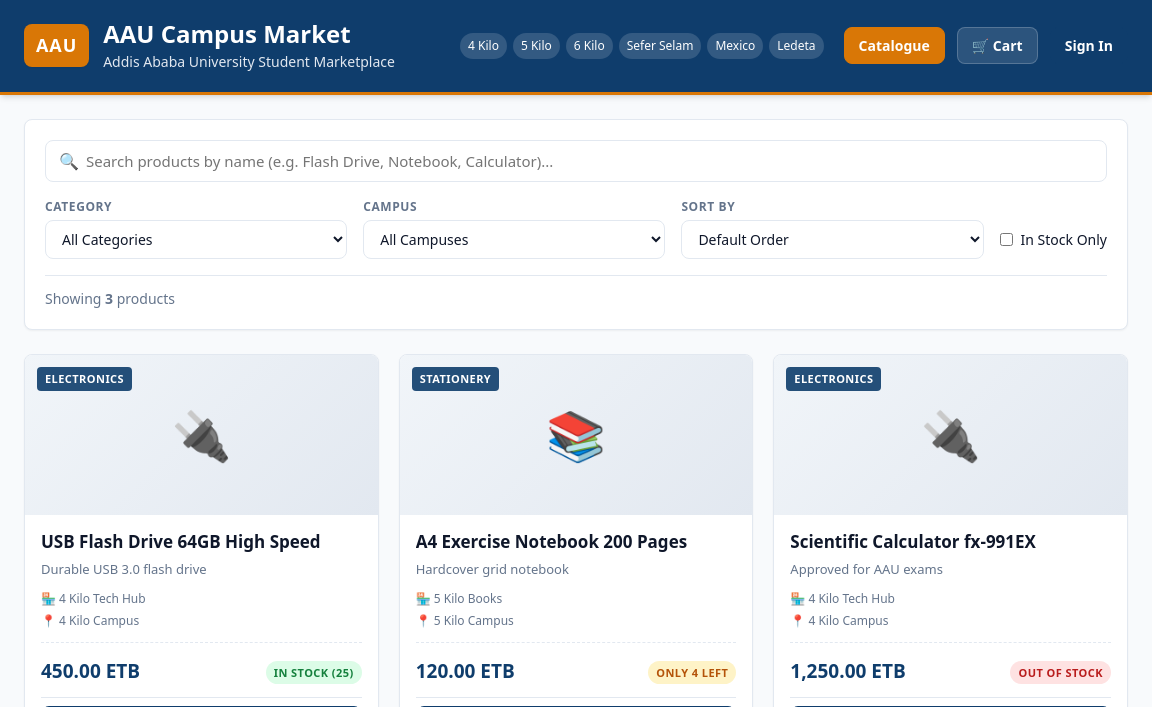
Scenario: App Component - Product Catalogue & Interaction › filters products by campus location
Expected: the heading "A4 Exercise Notebook 200 Pages" is shown, [416, 530, 687, 553]
Select "5 Kilo Campus" in the dropdown labelled "Campus": (514, 239) [363, 220, 665, 259]
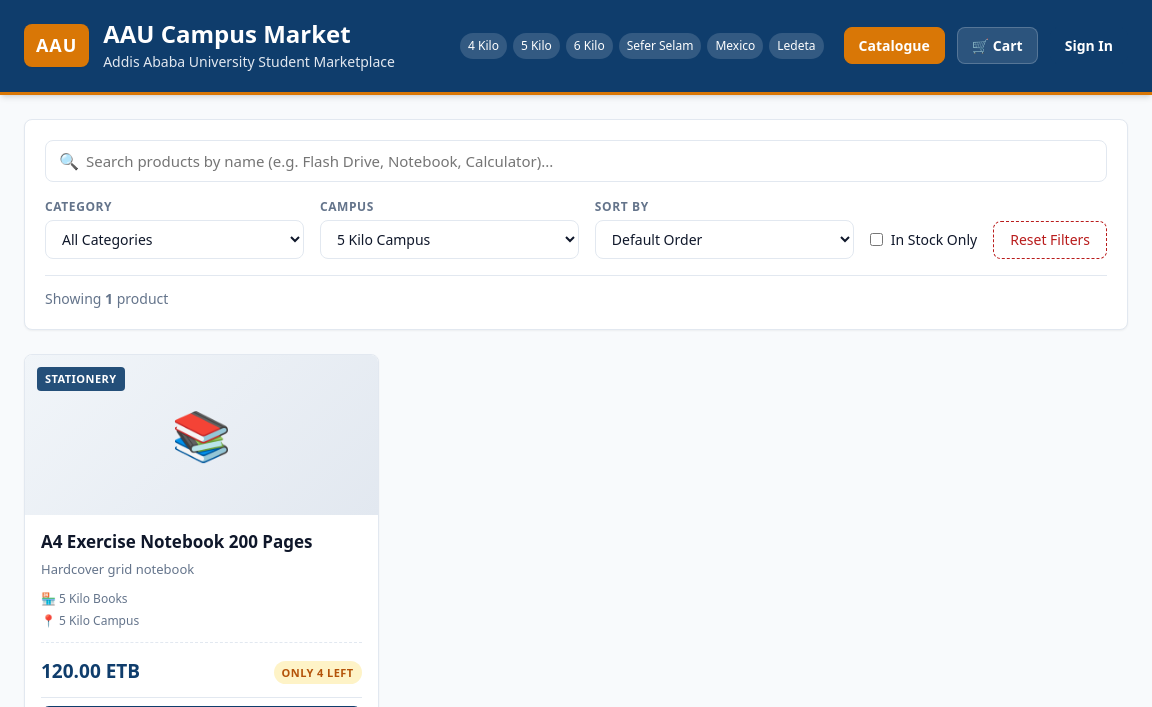
Expected: the heading "A4 Exercise Notebook 200 Pages" is shown, [41, 530, 312, 553]
Now the button "USB Flash Drive 64GB High Speed" is gone
